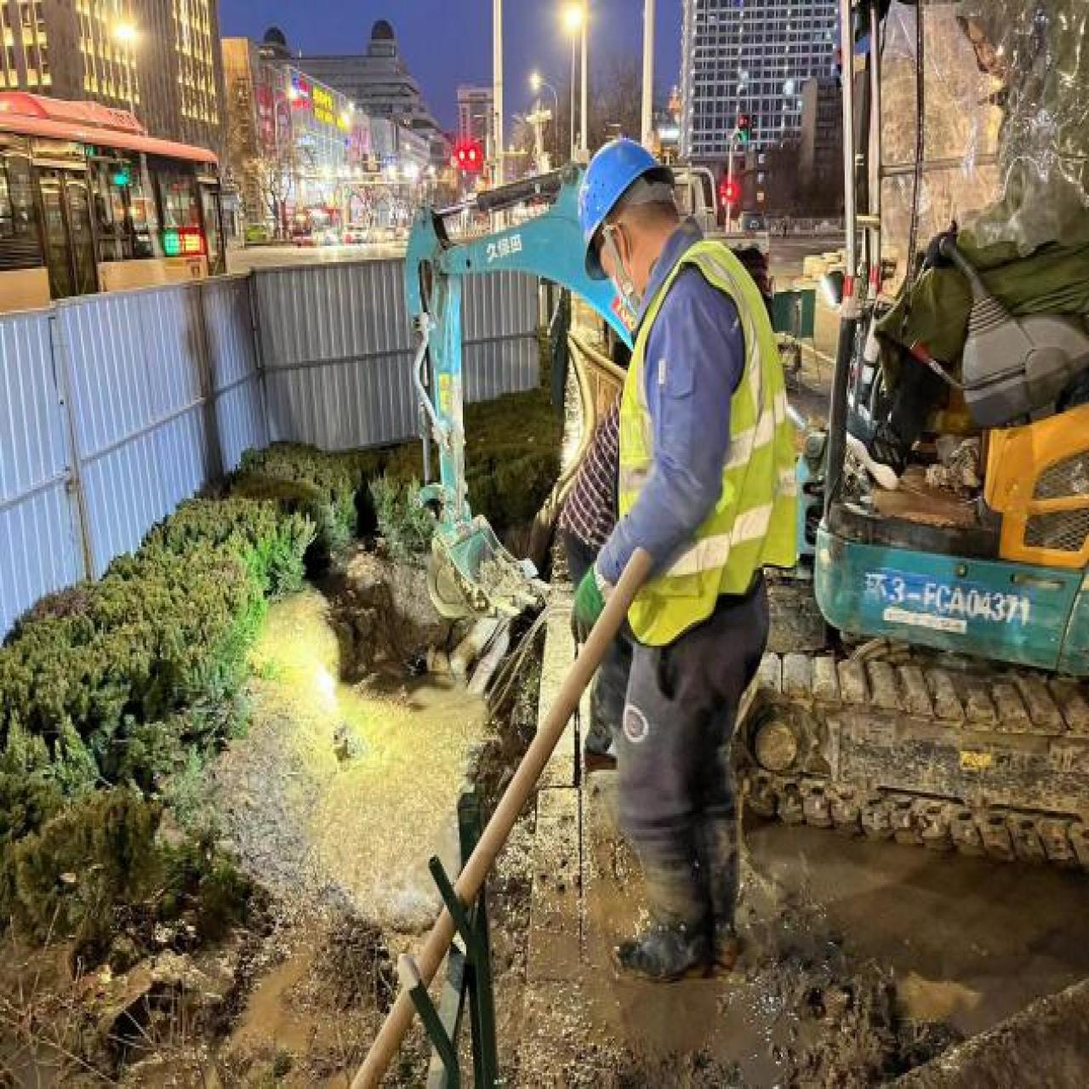Person: (545, 120, 818, 966)
Safety_Vest: (612, 239, 814, 636)
